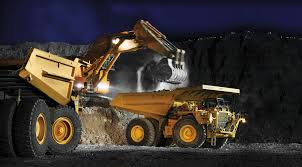excavator: (65, 19, 189, 112)
truck: (114, 85, 248, 149)
